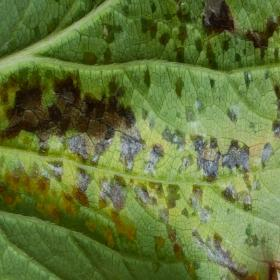Angular Leafspot: (0, 0, 279, 279)
